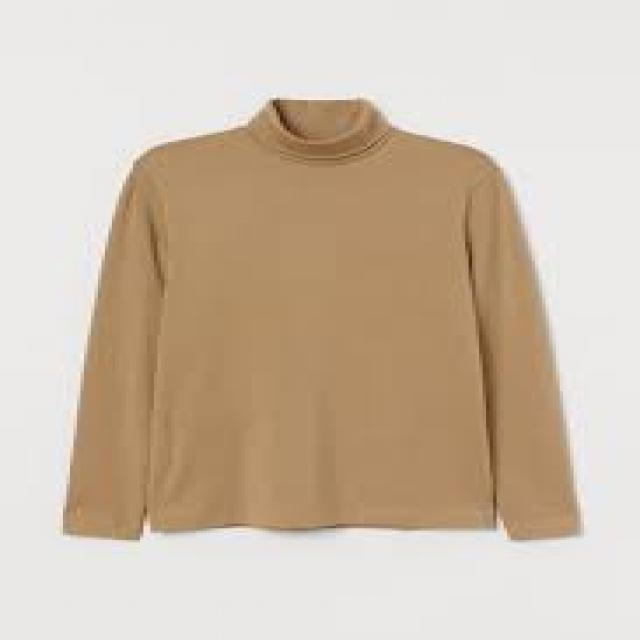plain: (53, 98, 584, 547)
